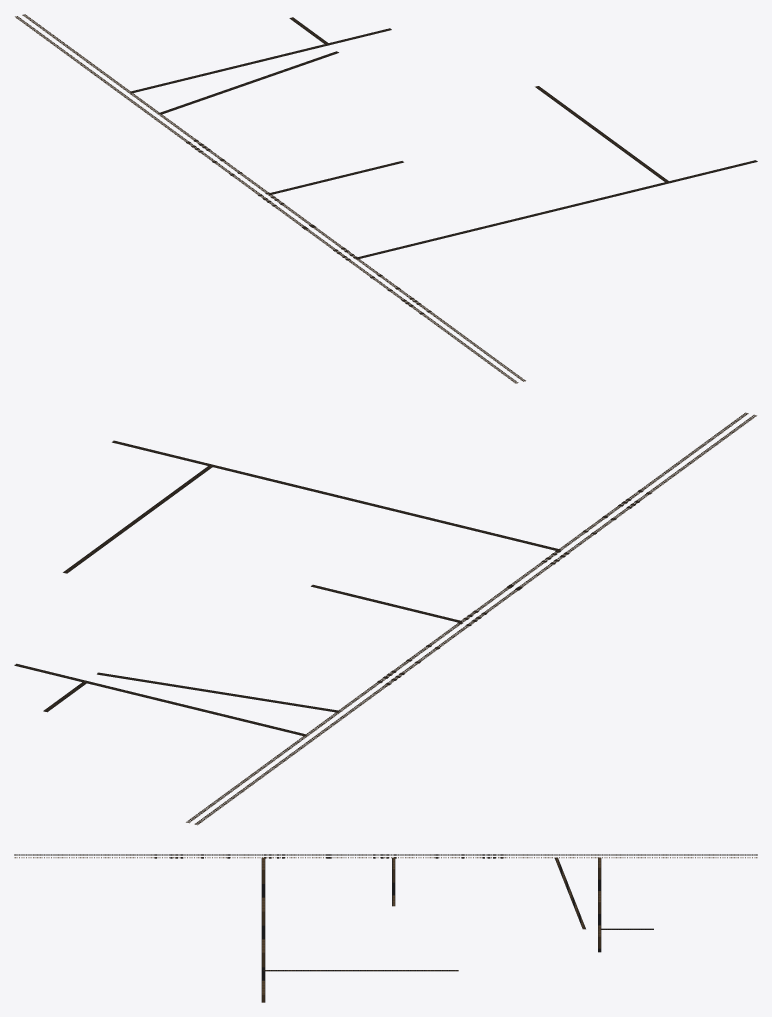
File: B_rail.glb
The picture shows the model from 3 angles, top to bottom: view 1: azimuth 30°, elevation 25°; view 2: azimuth 150°, elevation 25°; view 3: azimuth 270°, elevation 25°; orthographic projection. The views are drawn at different scales.
Visible parts, largest first — view 1: B_rail; view 2: B_rail; view 3: B_rail.
Boxes of the visible parts, <box> form: B_rail: <box>15,14,757,383</box>; B_rail: <box>14,412,756,825</box>; B_rail: <box>14,854,757,1002</box>.
Bounding box in the file's own units: 324 × 0.265 × 686.
3 materials, 3 textured.
